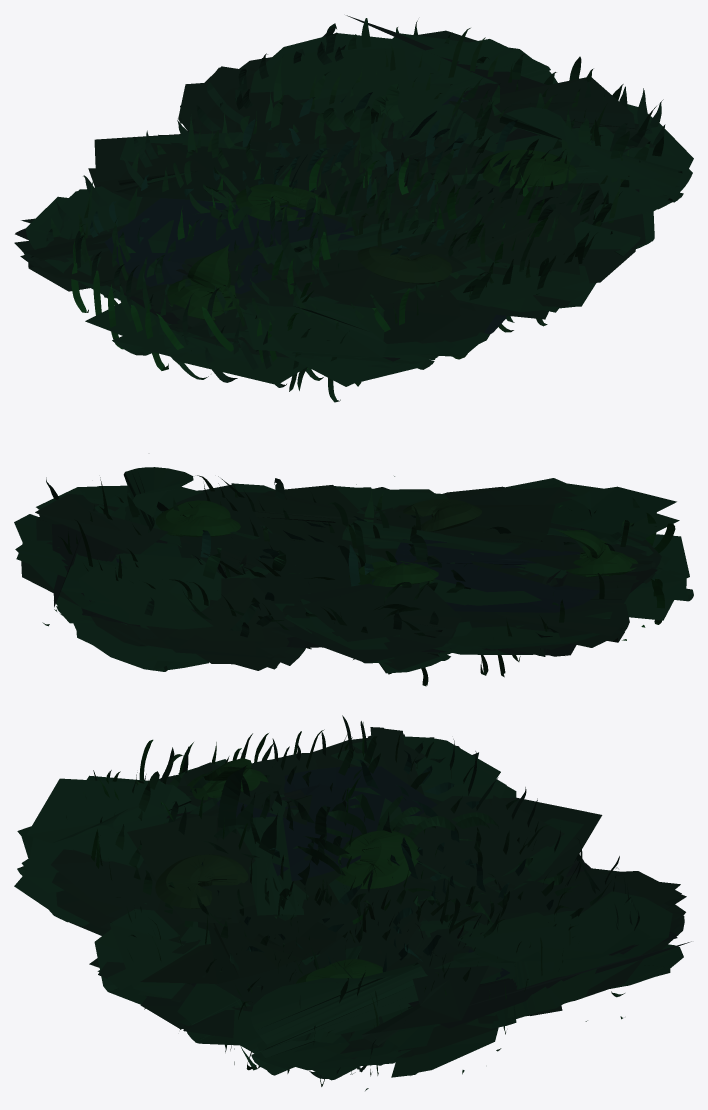
3 views of the same model, one above another, from view 1: azimuth 30°, elevation 25°; view 2: azimuth 150°, elevation 25°; view 3: azimuth 270°, elevation 25° (orthographic). The views are drawn at different scales.
Visible parts, largest first — view 1: Patch2; view 2: Patch2; view 3: Patch2.
Part boxes in pixels (<box>): Patch2: <box>14,15,693,402</box>; Patch2: <box>14,467,693,686</box>; Patch2: <box>14,715,691,1090</box>.
Size of the model in its own units: 1.25 by 0.3045 by 1.12.
